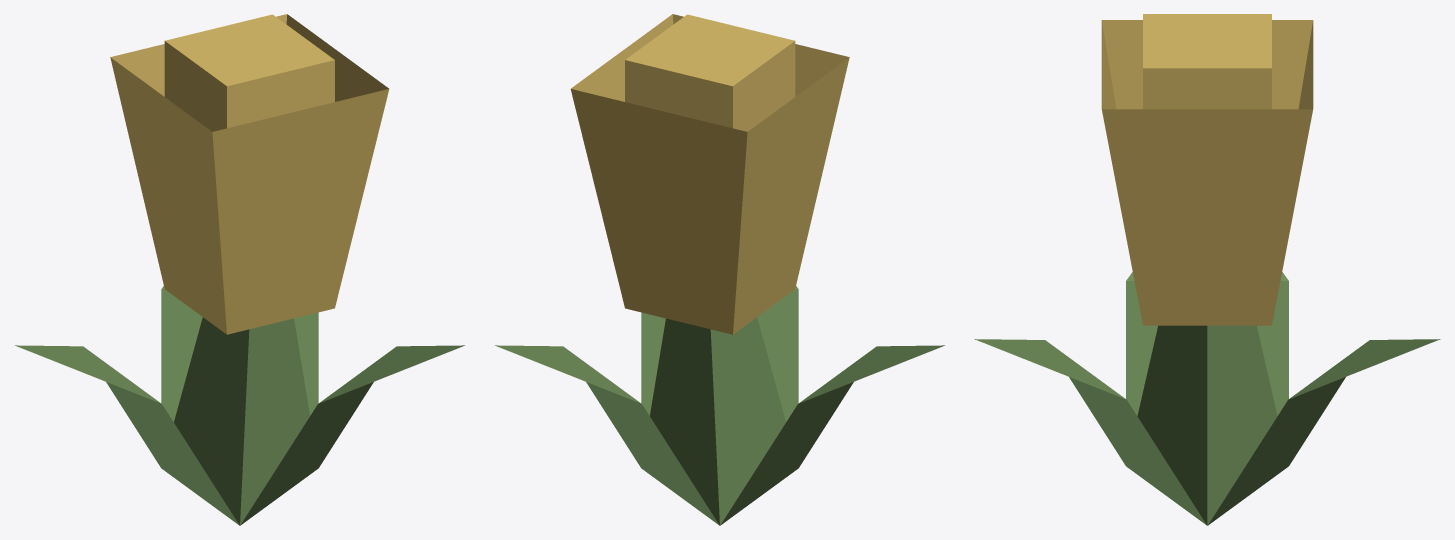
File: flower_yellowA.glb
The picture shows the model from 3 angles, left to right: view 1: azimuth 30°, elevation 25°; view 2: azimuth 150°, elevation 25°; view 3: azimuth 270°, elevation 25°; orthographic projection. The views are drawn at different scales.
Parts seen in each view (by area): view 1: flower_yellowA; view 2: flower_yellowA; view 3: flower_yellowA.
Part boxes in pixels (box(x1,y1,x2,y2)): flower_yellowA: box(15, 14, 464, 525); flower_yellowA: box(495, 14, 944, 525); flower_yellowA: box(974, 14, 1440, 525).
Bounding box in the file's own units: 0.2893 × 0.35 × 0.3292.
